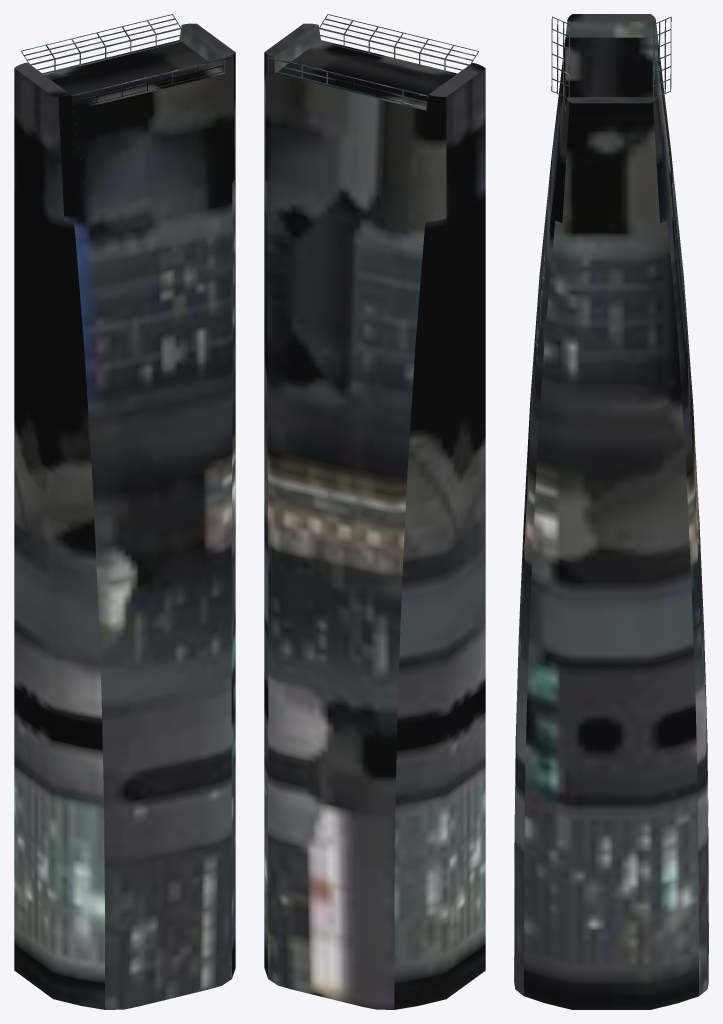
The model's file is night-5.glb.
3 renders of one model, left to right at view 1: azimuth 30°, elevation 25°; view 2: azimuth 150°, elevation 25°; view 3: azimuth 270°, elevation 25°, orthographic.
Bounding box in the file's own units: 3.08 × 14.64 × 2.83.
1 material, 1 textured.
